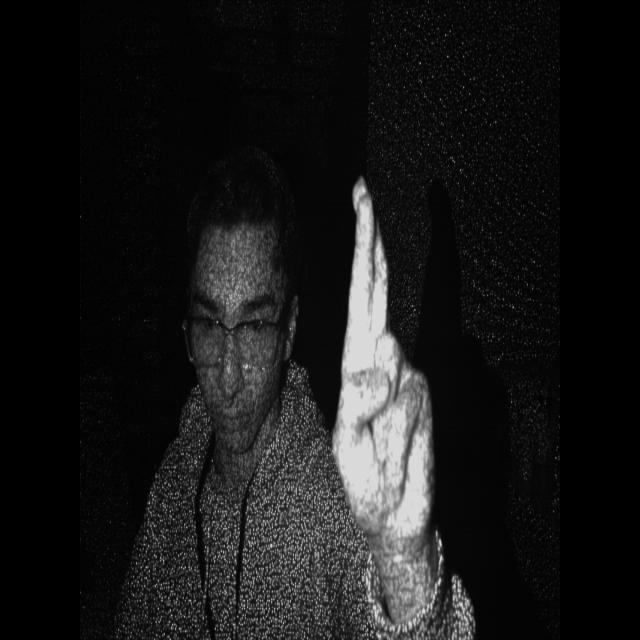R: (322, 164, 444, 550)
